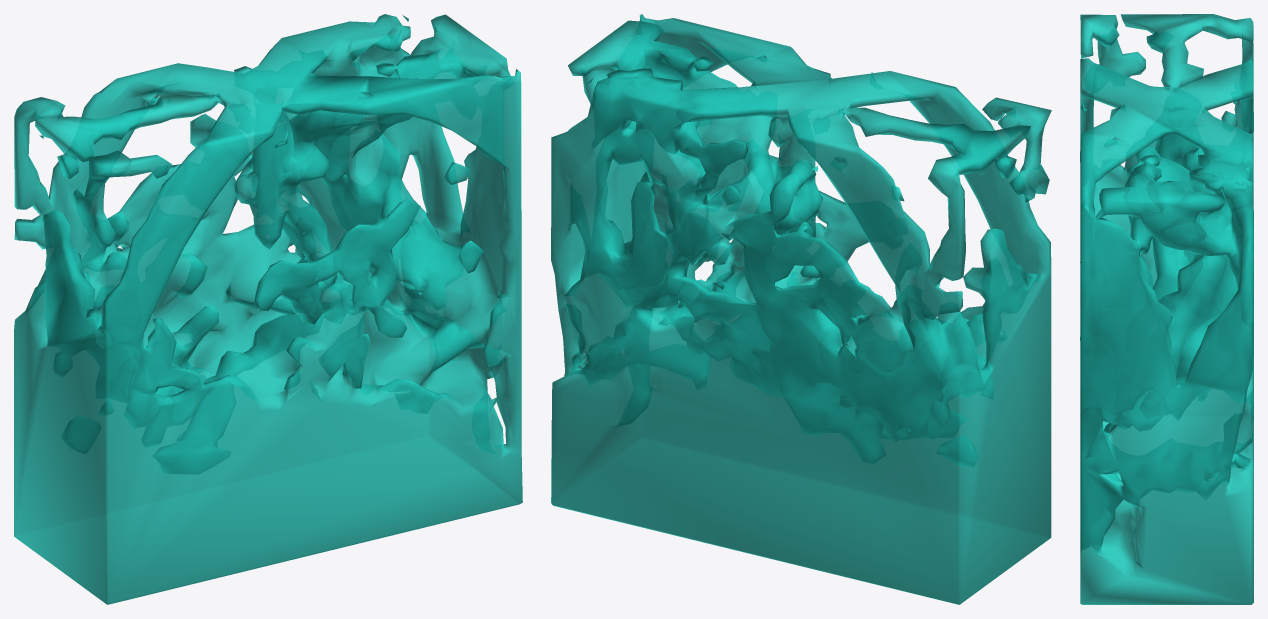
3 renders of one model, left to right at view 1: azimuth 30°, elevation 25°; view 2: azimuth 150°, elevation 25°; view 3: azimuth 270°, elevation 25°, orthographic. The views are drawn at different scales.
Parts seen in each view (by area): view 1: Liquid_Domain; view 2: Liquid_Domain; view 3: Liquid_Domain.
Part boxes in pixels (box(x1,y1,x2,y2)): Liquid_Domain: box(14, 14, 522, 604); Liquid_Domain: box(551, 14, 1051, 604); Liquid_Domain: box(1080, 14, 1253, 604).
Bounding box in the file's own units: 885 × 885 × 345.
